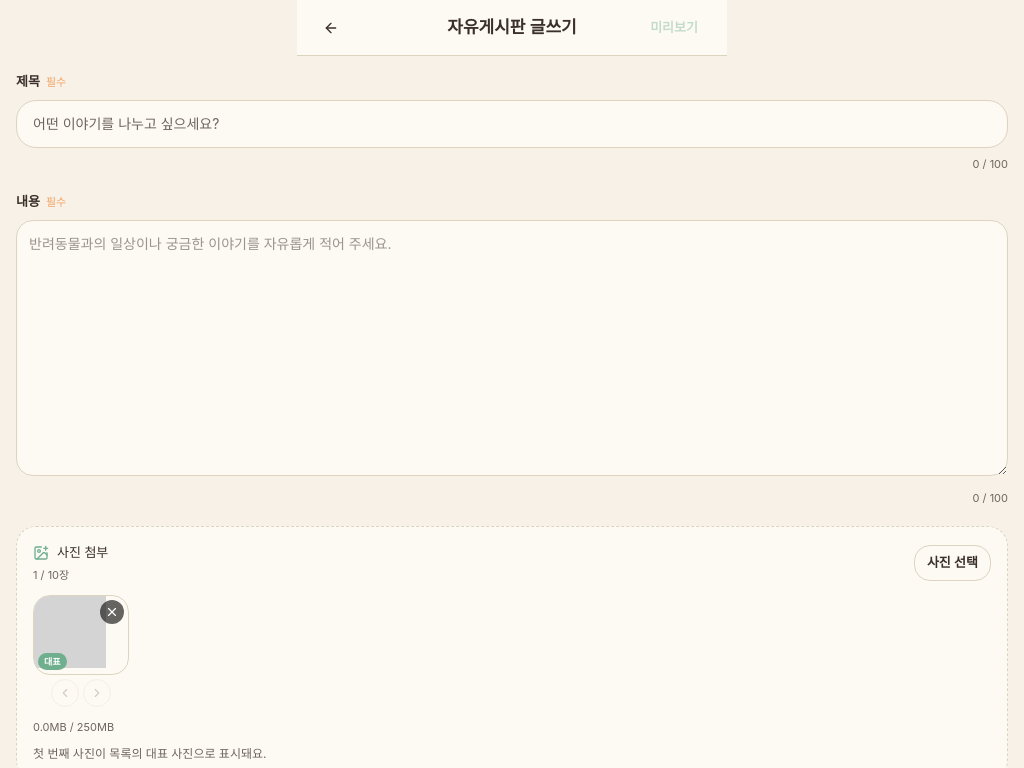
Test case: free-board post editor › identifies a likely object-storage CORS failure and keeps the draft
Earlier steps of the test are not shown.
Type "CORS 추적" into the field labelled "제목" at (512, 124), box [16, 100, 1008, 148]
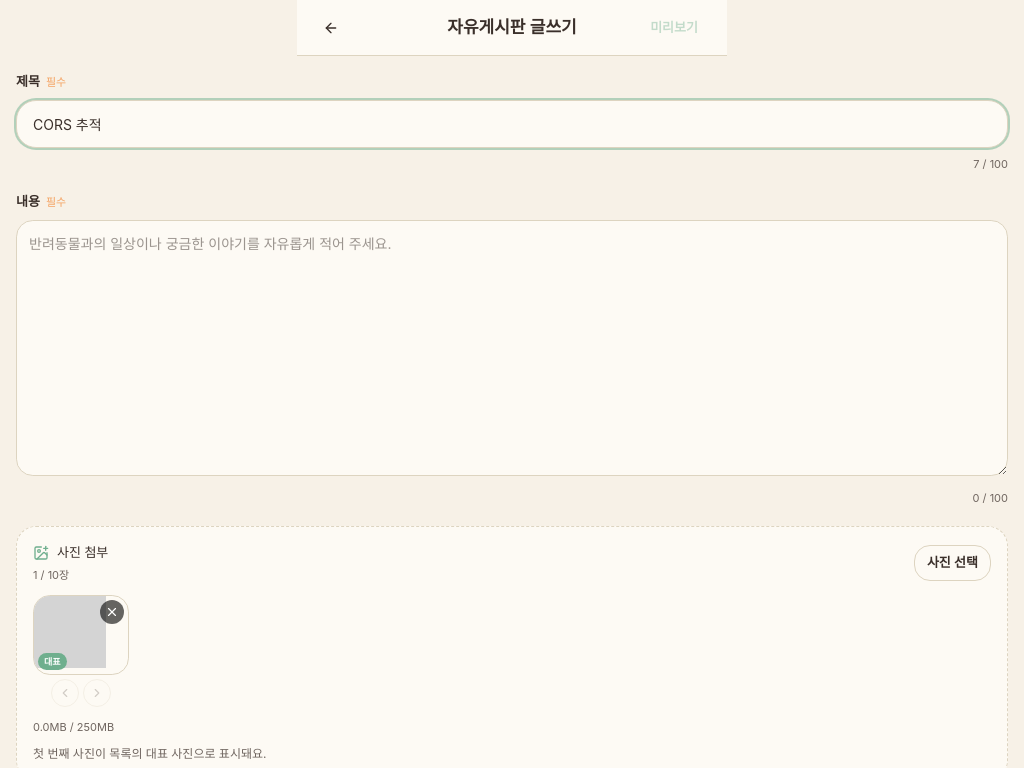
Type "초안을 유지해요" into the text box labelled "내용" at (512, 348), box [16, 220, 1008, 476]
(page scrolled)
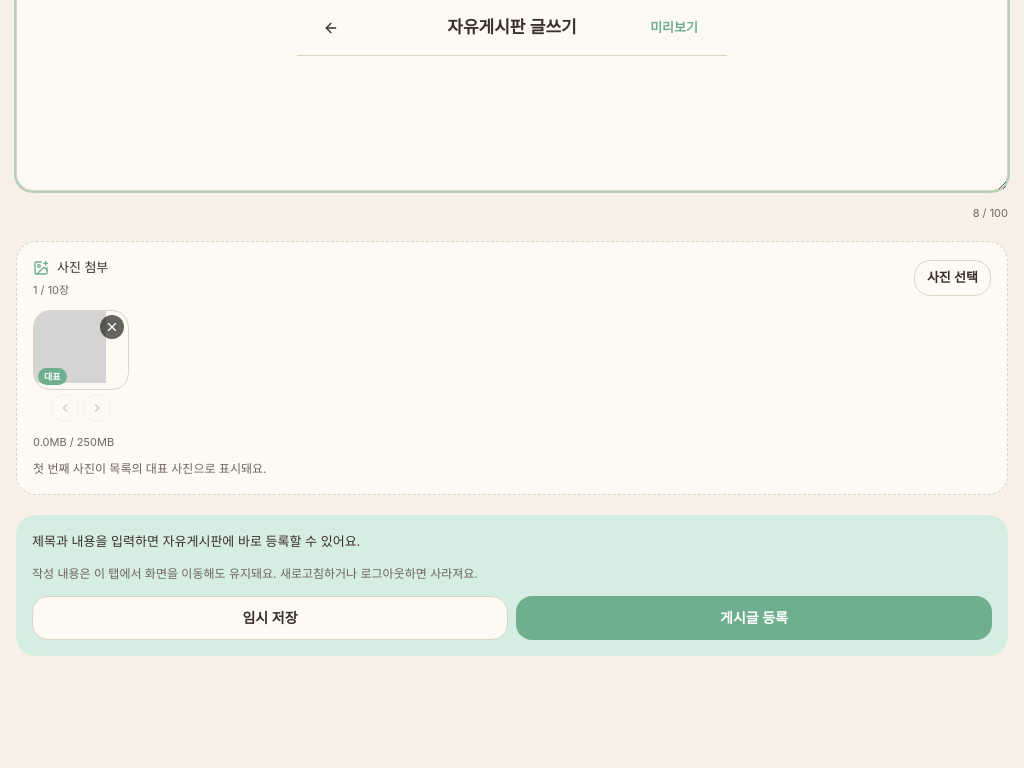
Click the button "게시글 등록" at (754, 618), box [516, 596, 992, 640]
(page scrolled)
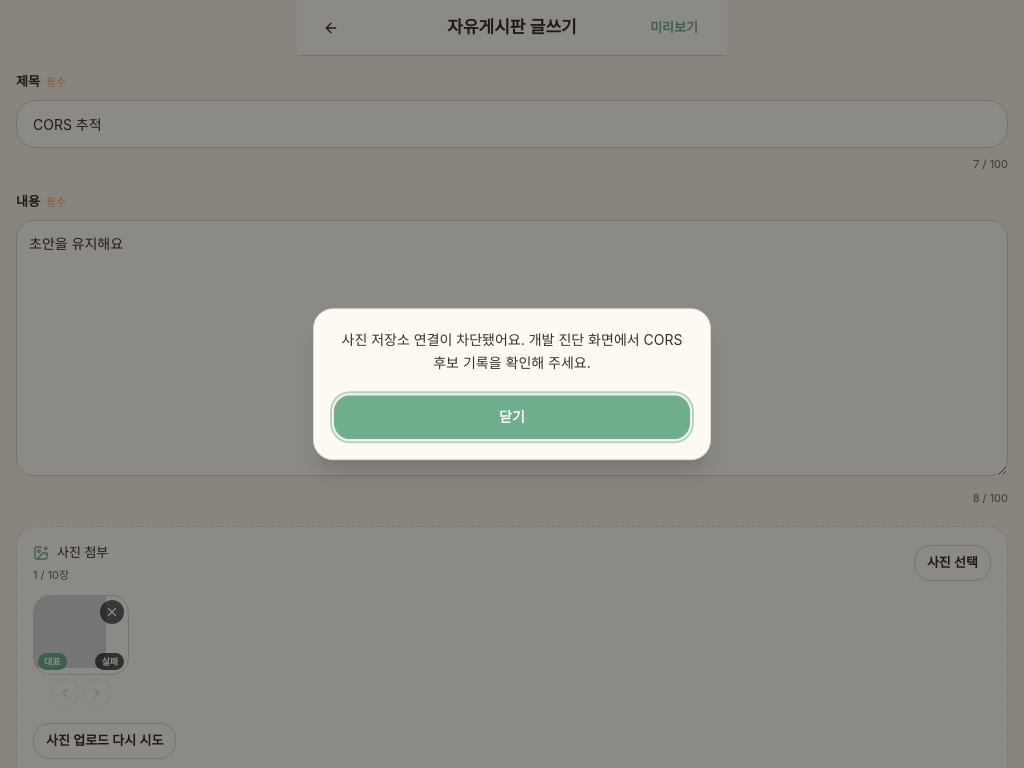
Result: the dialog shows "사진 저장소 연결이 차단됐어요" at [342, 331, 686, 371]
Result: the text "CORS 후보 기록" is shown 2 times
